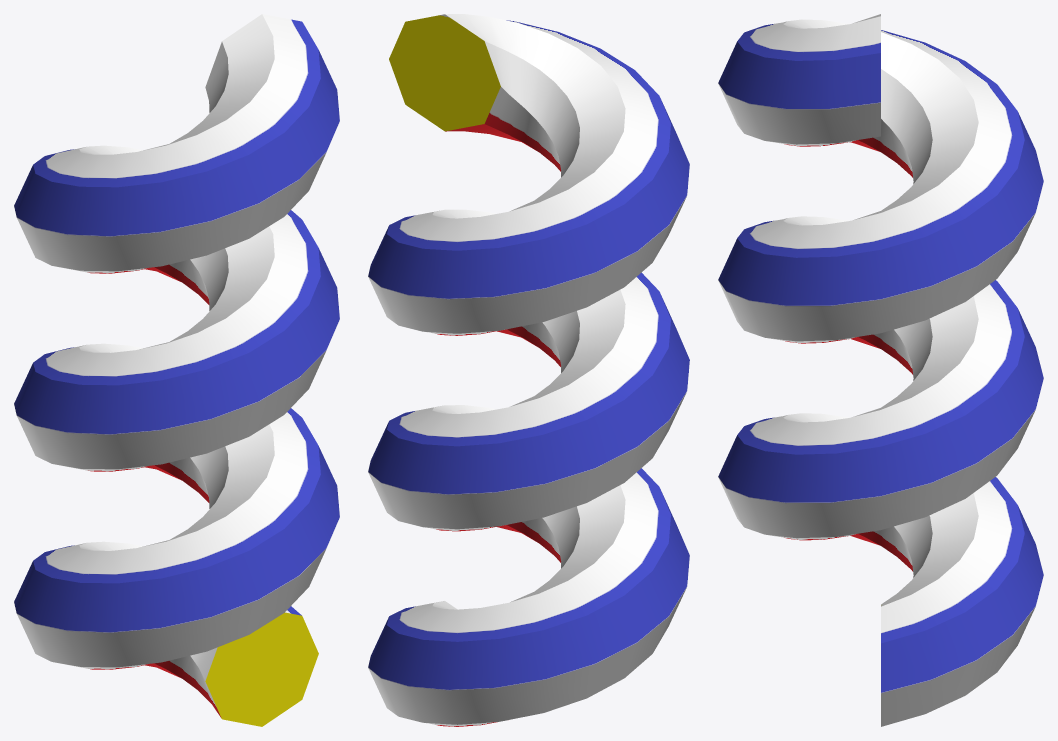
Rendered from Snake.fbx.
3 views of the same model, side by side, from view 1: azimuth 30°, elevation 25°; view 2: azimuth 150°, elevation 25°; view 3: azimuth 270°, elevation 25° (orthographic).
Parts seen in each view (by area): view 1: pHelix1; view 2: pHelix1; view 3: pHelix1.
Part boxes in pixels (x1,y1,x2,y2): pHelix1: (14, 14, 339, 726); pHelix1: (368, 14, 689, 726); pHelix1: (718, 14, 1043, 726).
Bounding box in the file's own units: 2 × 4.8 × 2.
1 material, 1 textured.
